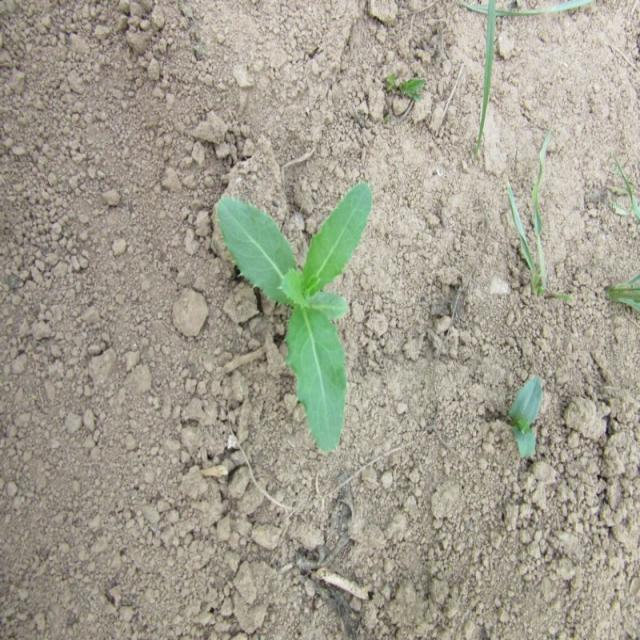field_thistle: (178, 171, 392, 452)
